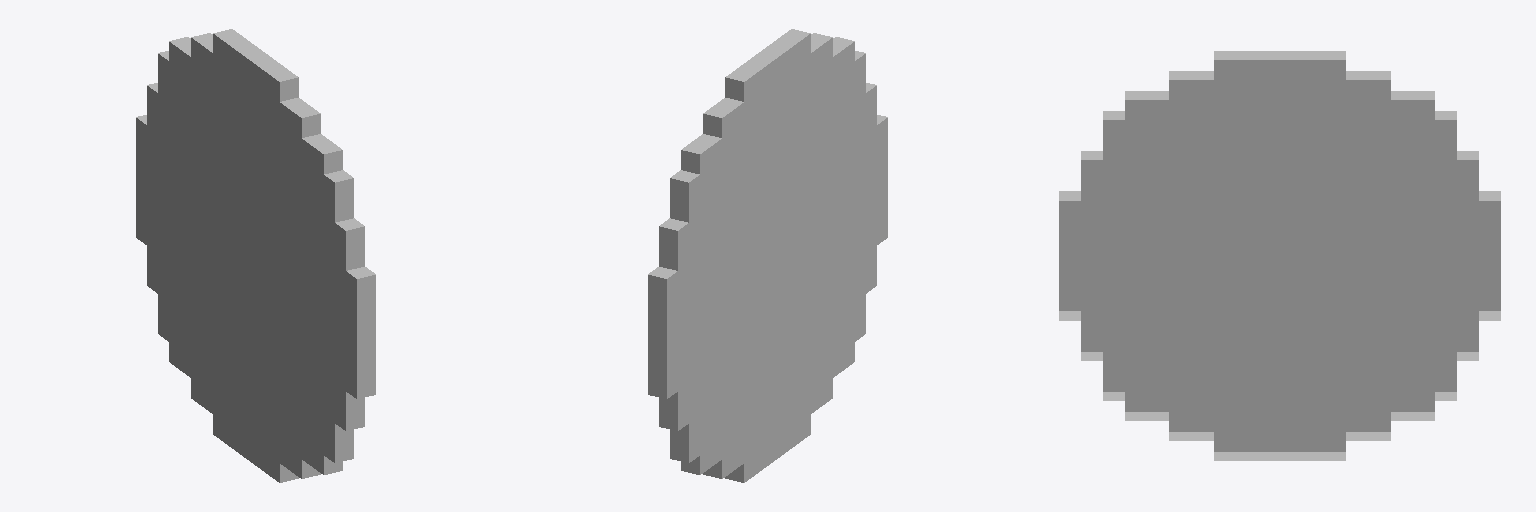
File: Mine4-1.obj
The picture shows the model from 3 angles: view 1: azimuth 30°, elevation 25°; view 2: azimuth 150°, elevation 25°; view 3: azimuth 270°, elevation 25°; orthographic projection.
Size of the model in its own units: 0.1 by 2 by 2.